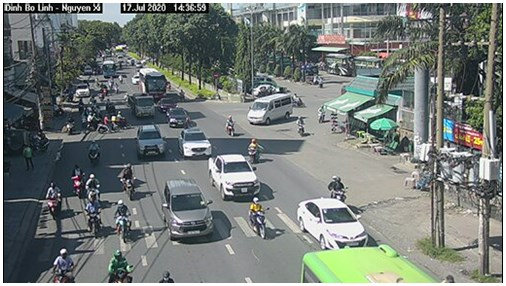di_bo: (23, 145, 36, 171)
xe_buyt: (137, 66, 170, 101), (100, 60, 117, 80)
xe_hoi: (297, 199, 372, 248), (162, 180, 217, 241), (207, 153, 262, 201), (136, 125, 168, 163), (177, 128, 212, 159), (165, 107, 190, 128), (156, 97, 176, 113), (75, 83, 91, 98)
xe_khach: (247, 93, 293, 126)
xe_may: (245, 196, 268, 242), (106, 248, 136, 283), (51, 248, 76, 284), (114, 199, 133, 244), (119, 163, 142, 200), (84, 198, 104, 239), (44, 181, 65, 218), (85, 173, 105, 207), (327, 173, 348, 201), (246, 138, 266, 165), (70, 164, 85, 199), (87, 139, 103, 169), (98, 113, 118, 136), (113, 112, 134, 131), (87, 110, 101, 133), (314, 104, 328, 126), (224, 114, 237, 137), (64, 115, 77, 136), (157, 269, 175, 283), (296, 116, 307, 137), (104, 97, 116, 112)
xe_tai: (127, 92, 157, 120)
